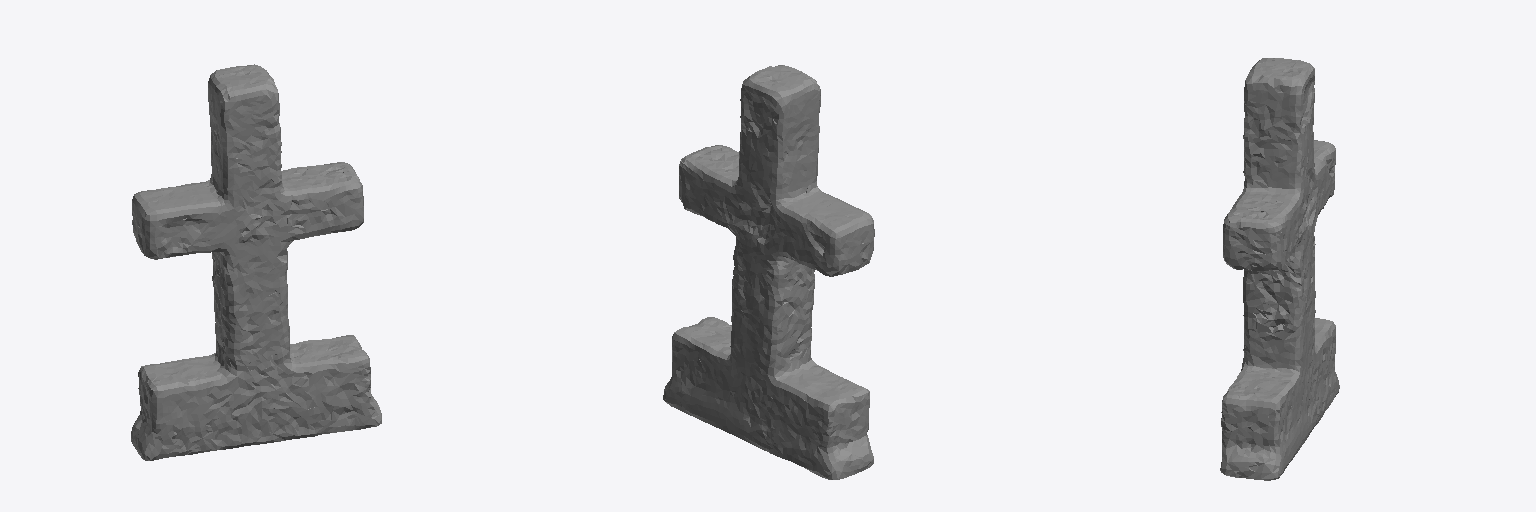
The model's file is gravestone02.obj.
3 views of the same model, side by side, from view 1: azimuth 30°, elevation 25°; view 2: azimuth 150°, elevation 25°; view 3: azimuth 270°, elevation 25° (orthographic).
Parts seen in each view (by area): view 1: gravestone02; view 2: gravestone02; view 3: gravestone02.
Boxes of the visible parts, box(x1,y1,x2,y2) form: gravestone02: box(131, 64, 381, 460); gravestone02: box(663, 65, 874, 479); gravestone02: box(1220, 58, 1339, 480).
Bounding box in the file's own units: 0.233 × 0.3727 × 0.1104.